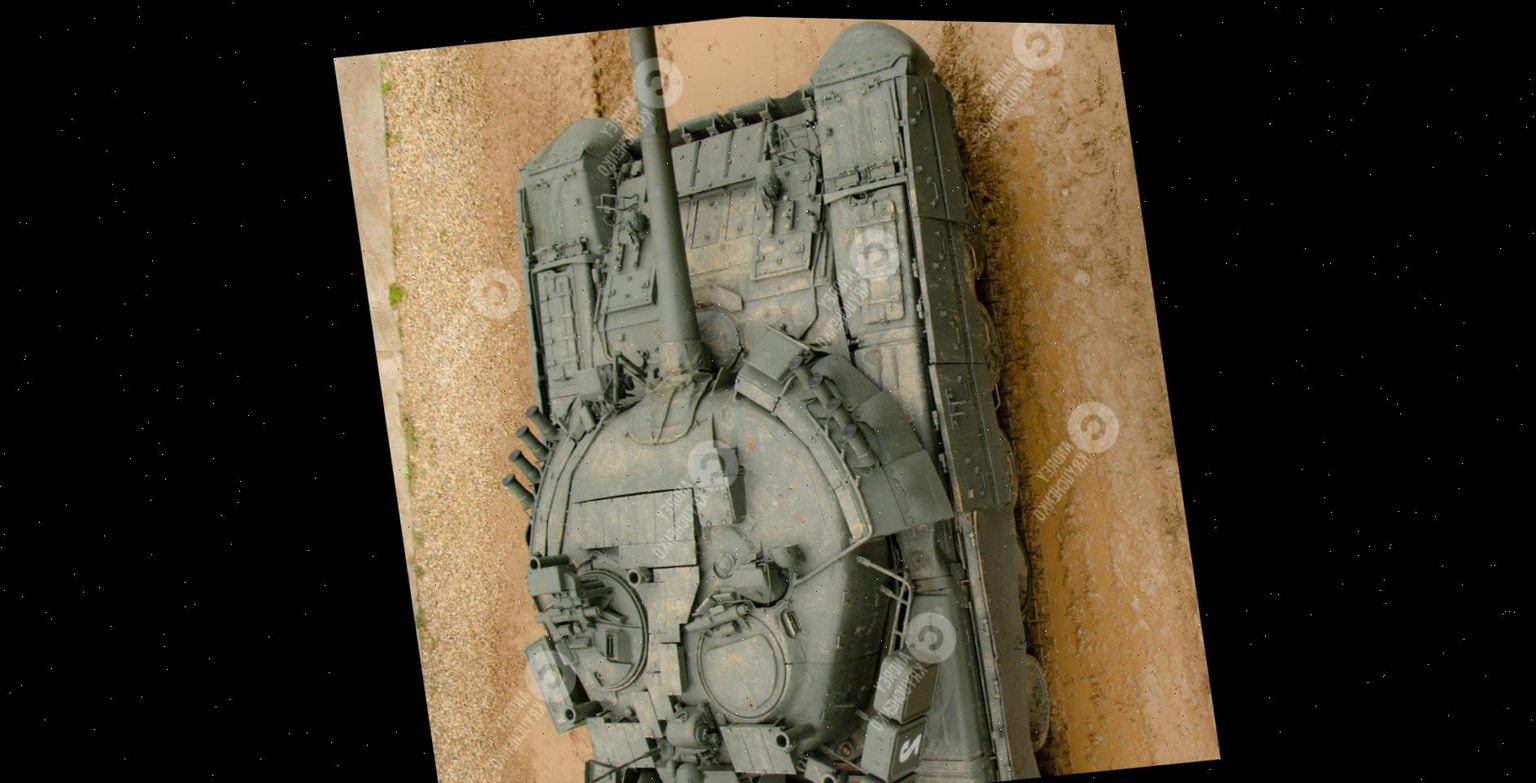tank: (409, 9, 1070, 783)
